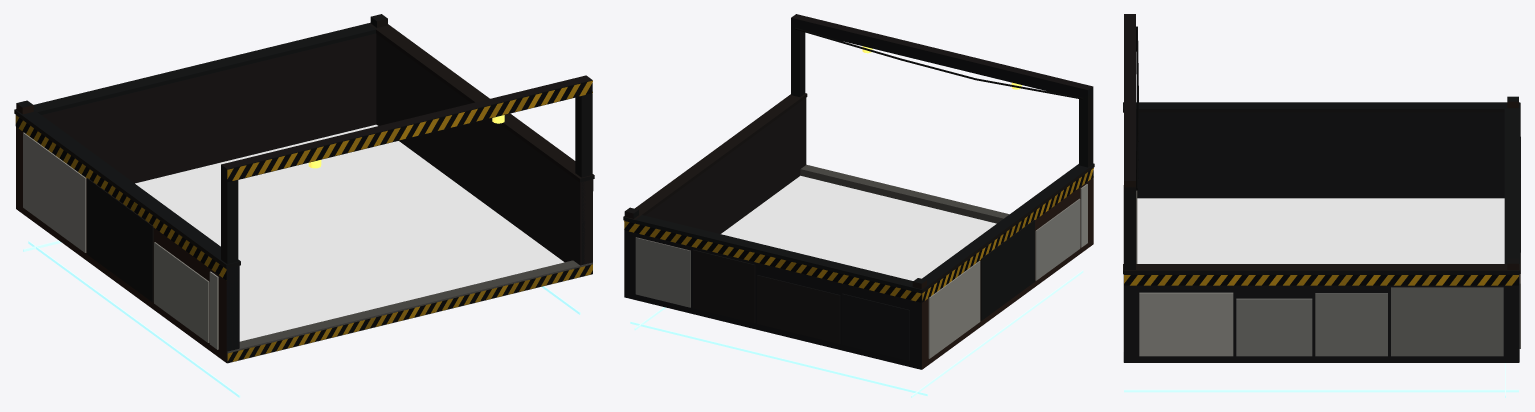
File: item_void.glb
3 renders of one model, left to right at view 1: azimuth 30°, elevation 25°; view 2: azimuth 150°, elevation 25°; view 3: azimuth 270°, elevation 25°, orthographic. The views are drawn at different scales.
Parts seen in each view (by area): view 1: Body, Vortex; view 2: Body, Vortex; view 3: Body, Vortex.
Boxes of the visible parts, x1,y1,x2,y2 form: Body: [14, 14, 594, 397]; Vortex: [135, 124, 564, 341]; Body: [623, 14, 1094, 397]; Vortex: [721, 175, 996, 280]; Body: [1123, 14, 1520, 397]; Vortex: [1137, 198, 1504, 263].
Bounding box in the file's own units: 4.01 × 2.41 × 4.01.
